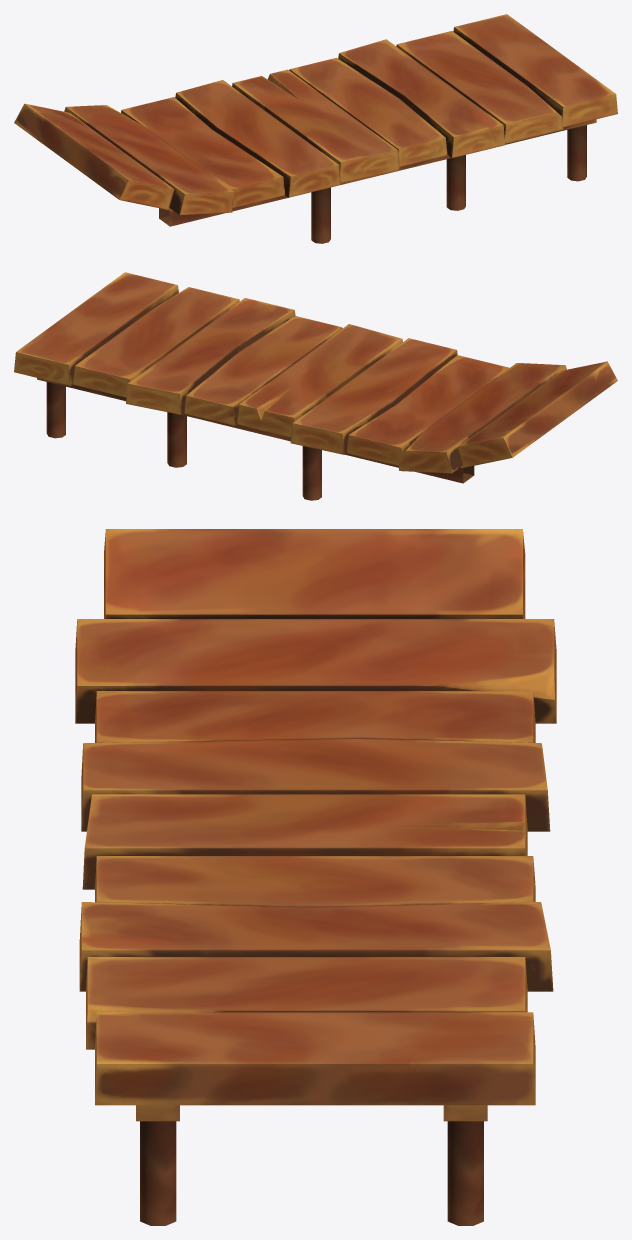
Rendered from berth.fbx.
3 views of the same model, one above another, from view 1: azimuth 30°, elevation 25°; view 2: azimuth 150°, elevation 25°; view 3: azimuth 270°, elevation 25° (orthographic). The views are drawn at different scales.
Visible parts, largest first — view 1: berth; view 2: berth; view 3: berth.
Part boxes in pixels (<box>): berth: <box>14,14,617,243</box>; berth: <box>14,272,617,500</box>; berth: <box>75,529,556,1225</box>.
Size of the model in its own units: 105 by 44.1 by 24.16.
